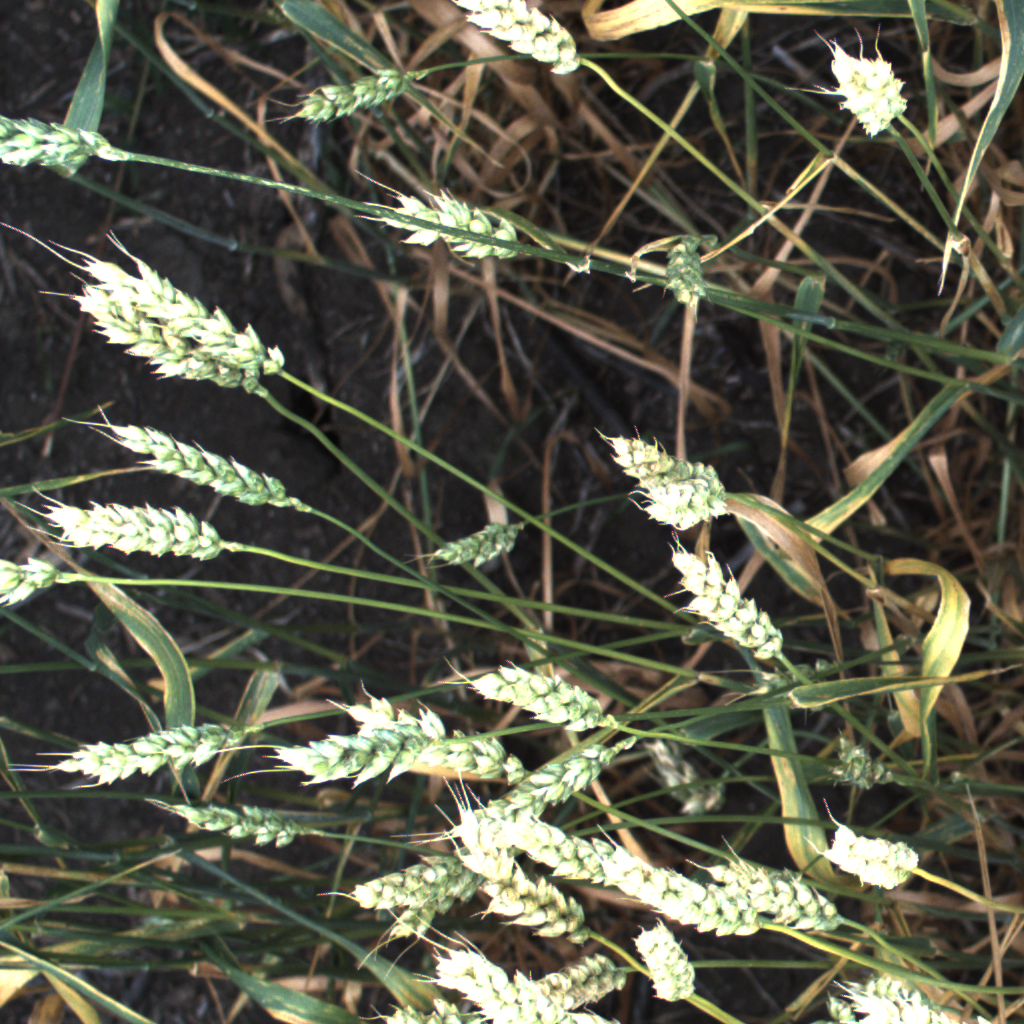wheat_head: (77, 239, 298, 383), (51, 272, 273, 403), (87, 410, 322, 519), (650, 528, 803, 675), (326, 682, 538, 787), (407, 943, 648, 1024), (595, 836, 770, 946), (443, 645, 628, 743), (45, 713, 261, 793), (478, 727, 642, 820), (466, 798, 626, 889), (818, 30, 924, 163), (43, 495, 233, 568), (133, 786, 330, 856), (700, 850, 854, 939), (467, 849, 602, 947), (328, 842, 500, 913), (270, 716, 441, 787), (445, 0, 591, 83), (597, 424, 743, 506), (380, 191, 519, 271), (812, 962, 988, 1024), (0, 107, 128, 181), (377, 860, 480, 950), (285, 59, 428, 123), (618, 917, 705, 1005), (629, 471, 744, 537), (817, 816, 921, 888), (424, 505, 530, 573), (659, 223, 718, 307), (0, 551, 73, 612), (820, 742, 903, 795), (357, 1003, 564, 1024), (449, 834, 527, 889)
